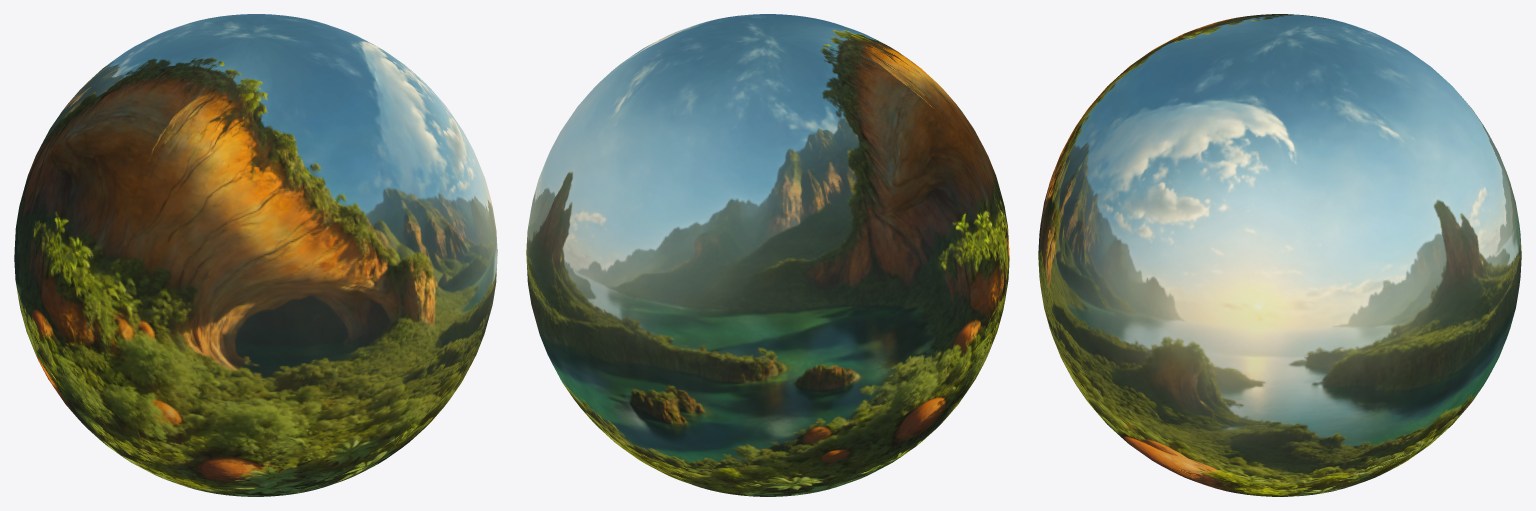
3 views of the same model, side by side, from view 1: azimuth 30°, elevation 25°; view 2: azimuth 150°, elevation 25°; view 3: azimuth 270°, elevation 25° (orthographic).
Visible parts, largest first — view 1: Sphere_Material.001_0; view 2: Sphere_Material.001_0; view 3: Sphere_Material.001_0.
Part boxes in pixels (left/top/right/bottom): Sphere_Material.001_0: left=14, top=14, right=497, bottom=496; Sphere_Material.001_0: left=526, top=14, right=1009, bottom=496; Sphere_Material.001_0: left=1038, top=14, right=1521, bottom=496.
Bounding box in the file's own units: 1000 × 1000 × 1000.
Materials: 1 (1 with a texture image).
